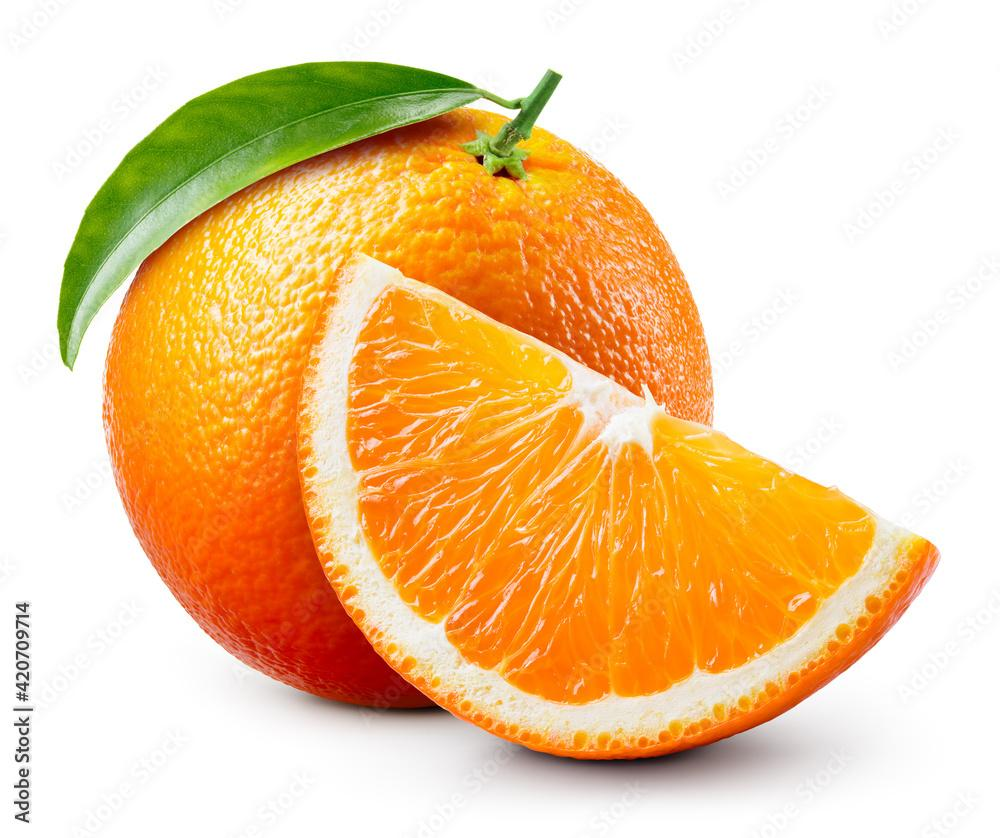non-mango: (100, 93, 715, 710), (292, 249, 941, 761)
